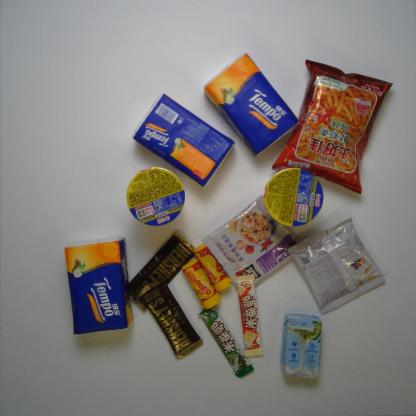Candy: (192, 243, 232, 293), (182, 260, 221, 309)
Chocolate: (125, 229, 193, 313), (140, 280, 203, 360), (198, 304, 254, 380), (234, 274, 263, 358)
Instant Drink: (286, 218, 385, 316), (203, 195, 302, 289)
Instant Noodles: (126, 166, 186, 228), (264, 168, 323, 227)
Milk: (279, 312, 323, 380)
Puffed Food: (270, 60, 394, 194)
Tissue: (204, 51, 300, 160), (132, 94, 234, 187), (64, 238, 132, 337)
